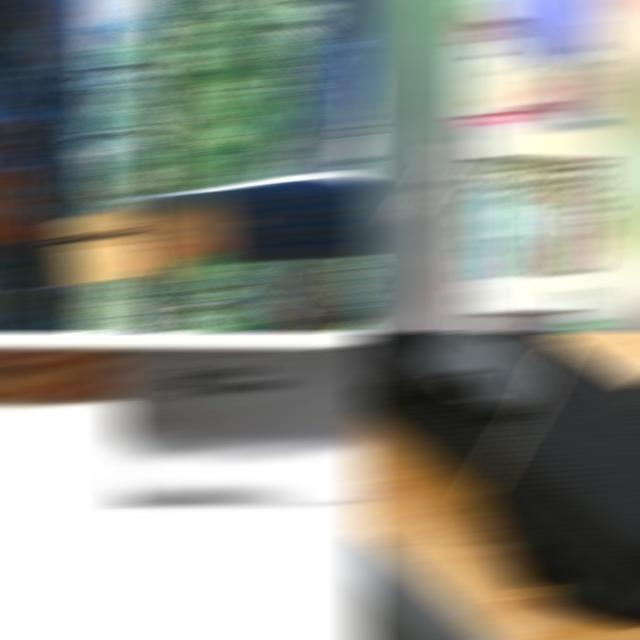Knife: (0, 344, 372, 504)
Knife_Handle: (382, 289, 426, 332)
